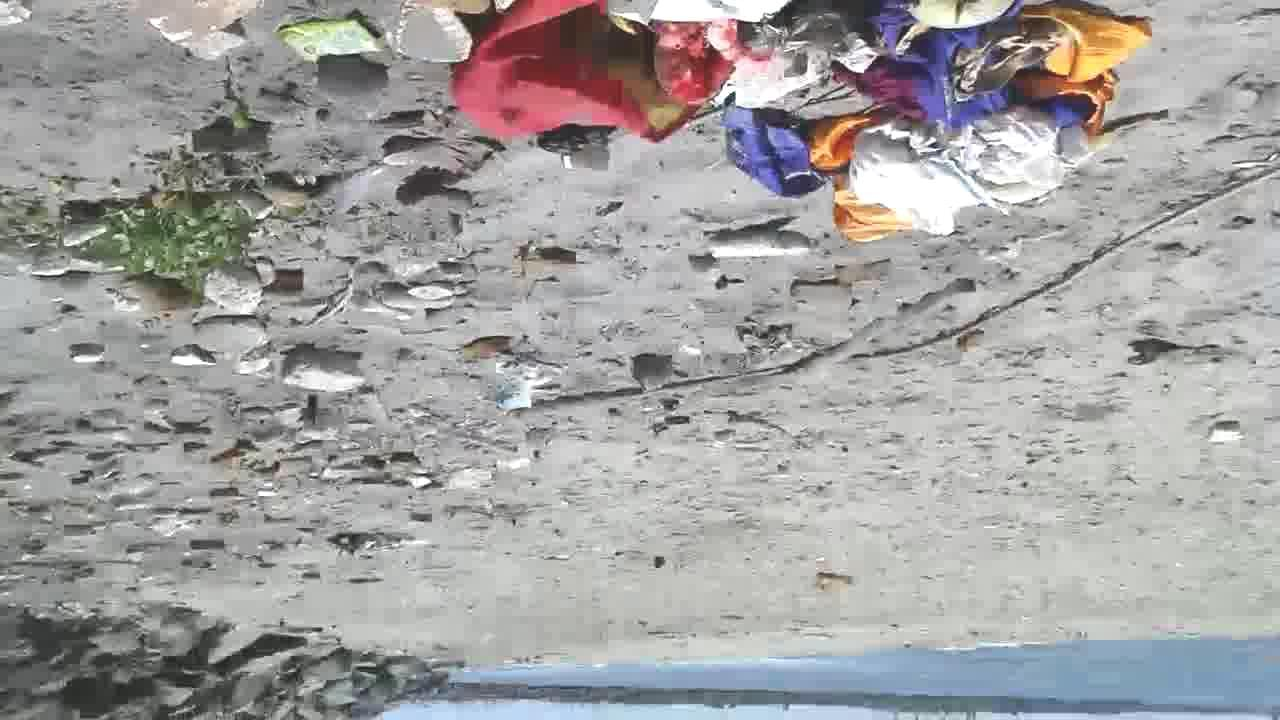large collection of objects: (32, 269, 279, 466), (349, 253, 483, 322), (282, 346, 364, 395)
obj: (504, 148, 1276, 434), (446, 3, 1153, 244), (54, 103, 276, 304), (302, 1, 469, 65), (312, 53, 392, 119), (793, 264, 895, 312), (492, 354, 574, 410), (268, 22, 381, 59), (522, 126, 613, 170), (705, 229, 813, 263), (1126, 338, 1234, 369), (399, 173, 468, 214), (510, 239, 585, 269), (453, 333, 512, 363), (636, 352, 676, 395), (811, 569, 856, 593), (1202, 421, 1242, 444), (188, 535, 230, 556)
sand/background: (1, 495, 1279, 719)
